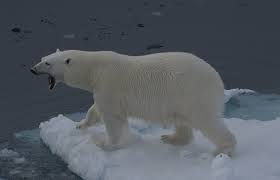PolarBear: (30, 45, 240, 160)
